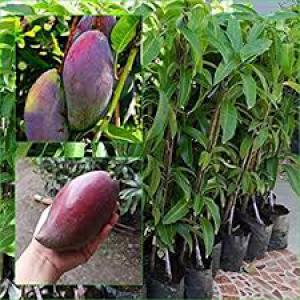Tree: (6, 4, 290, 292)
